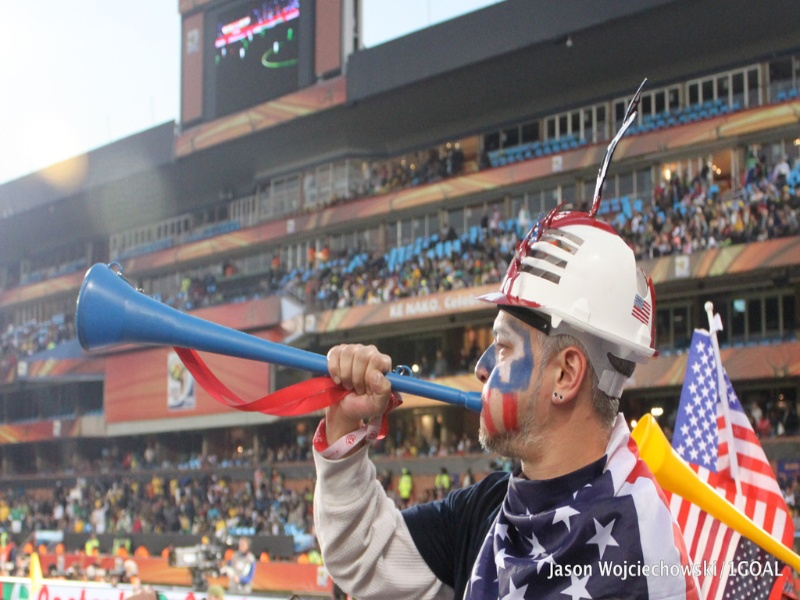Baret: (474, 216, 655, 333)
